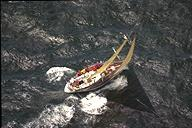sailboat: (62, 28, 138, 95)
water: (2, 2, 62, 126), (139, 4, 191, 126), (2, 95, 191, 126), (2, 2, 190, 26)
